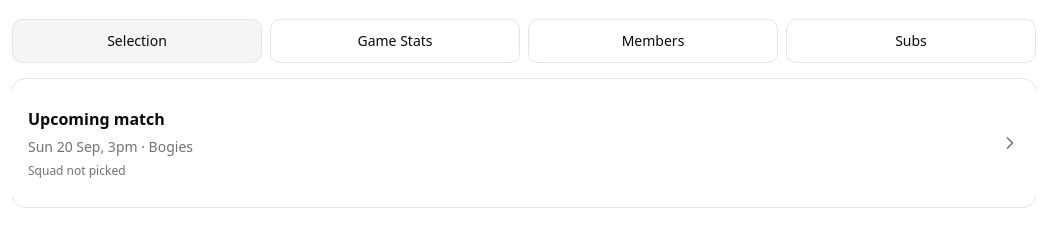
Scenario: Game Stats view (S17.2 AC2, AC3) › excludes upcoming, training and cancelled matches
This screenshot has width=1048, height=225.
Click the radio button labelled "Game Stats": x=395, y=41 [270,19,520,63]
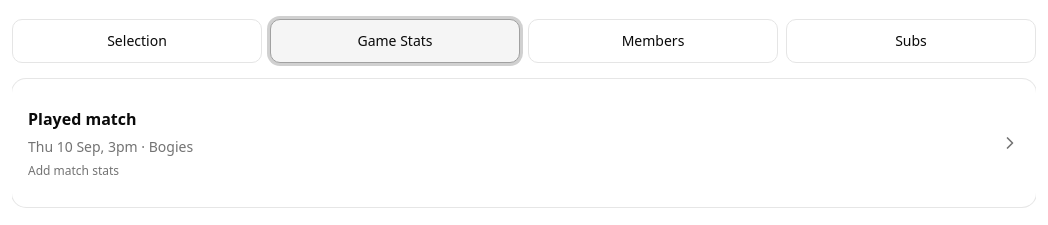
Expected: the text "Played match" is shown, [28,108,136,130]
Expected: the link "Upcoming match" is gone
